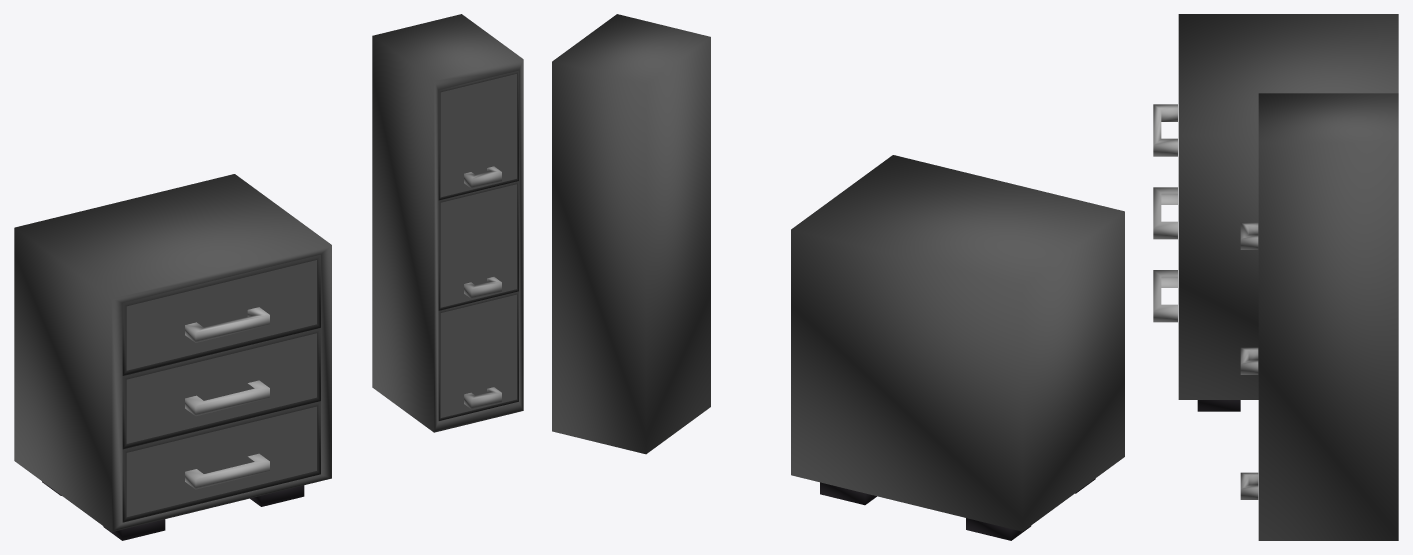
The model's file is filing cabinets.fbx.
3 renders of one model, left to right at view 1: azimuth 30°, elevation 25°; view 2: azimuth 150°, elevation 25°; view 3: azimuth 270°, elevation 25°, orthographic. The views are drawn at different scales.
Parts seen in each view (by area): view 1: Filing Cabinet, Filing Cabinet Tall, Filing Cabinet Drawer, Filing Cabinet Tall Drawer; view 2: Filing Cabinet, Filing Cabinet Tall; view 3: Filing Cabinet Tall, Filing Cabinet, Filing Cabinet Drawer, Filing Cabinet Tall Drawer.
Part boxes in pixels (left/top/right/bottom): Filing Cabinet: left=14, top=174, right=331, bottom=540; Filing Cabinet Tall: left=372, top=14, right=523, bottom=432; Filing Cabinet Drawer: left=122, top=254, right=320, bottom=375; Filing Cabinet Tall Drawer: left=438, top=70, right=518, bottom=200; Filing Cabinet: left=791, top=155, right=1124, bottom=540; Filing Cabinet Tall: left=552, top=14, right=710, bottom=454; Filing Cabinet Tall: left=1240, top=93, right=1398, bottom=540; Filing Cabinet: left=1153, top=14, right=1398, bottom=411; Filing Cabinet Drawer: left=1153, top=104, right=1177, bottom=156; Filing Cabinet Tall Drawer: left=1240, top=222, right=1258, bottom=249.
Bounding box in the file's own units: 1.53 × 1.17 × 0.6415.
